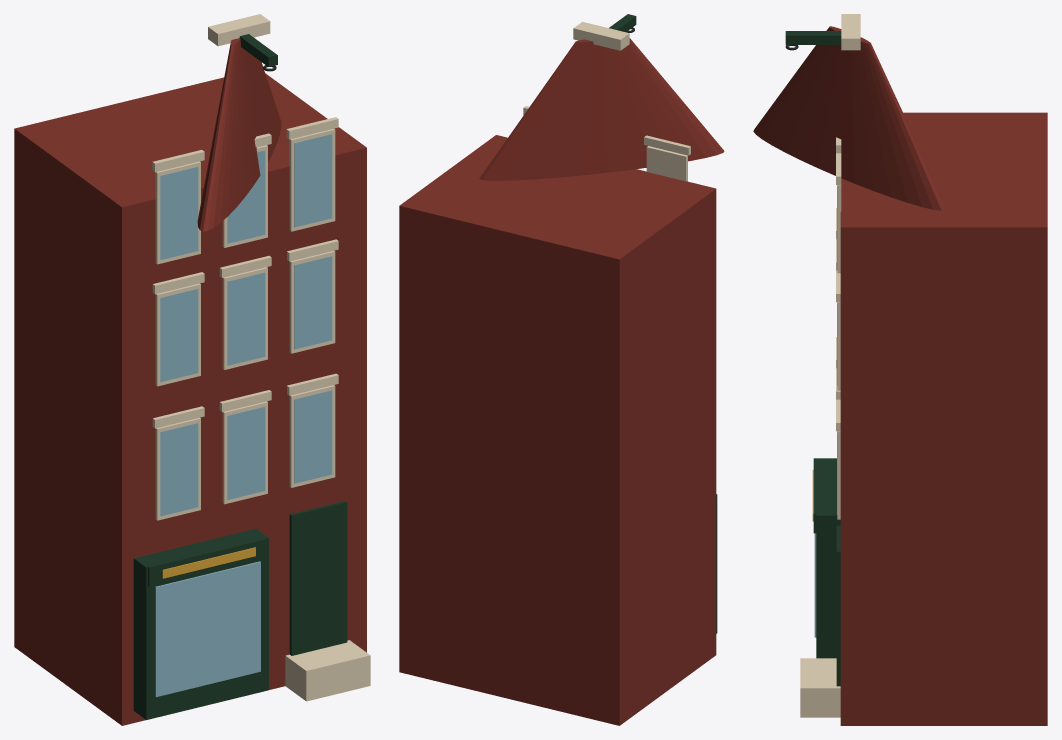
File: canal-house-narrow-a.glb
3 renders of one model, left to right at view 1: azimuth 30°, elevation 25°; view 2: azimuth 150°, elevation 25°; view 3: azimuth 270°, elevation 25°, orthographic. The views are drawn at different scales.
Visible parts, largest first — view 1: Cube, Cube.004, Cone, Cube.008, Cube.003, Cube.007, Cube.017, Cube.020, Cube.023, Cube.011, Cube.014, Cube.026 (+24 smaller); view 2: Cube, Cone, Cube.028, Cube.001; view 3: Cube, Cone, Cube.003, Cube.007, Cube.008, Cube.002, Cube.001.
Boxes of the visible parts, x1,y1,x2,y2 form: Cube: (14, 73, 366, 725); Cube.004: (155, 561, 260, 697); Cone: (197, 38, 281, 231); Cube.008: (289, 501, 347, 655); Cube.003: (133, 528, 268, 719); Cube.007: (285, 640, 370, 701); Cube.017: (294, 390, 332, 483); Cube.020: (160, 289, 198, 382); Cube.023: (227, 272, 265, 365); Cube.011: (160, 423, 198, 516); Cube.014: (227, 406, 265, 499); Cube.026: (294, 256, 332, 349); Cube: (399, 135, 716, 725); Cone: (479, 38, 724, 180); Cube.028: (646, 146, 687, 181); Cube.001: (573, 21, 629, 50); Cube: (840, 112, 1047, 725); Cone: (753, 26, 947, 210); Cube.003: (816, 458, 840, 658); Cube.007: (800, 658, 840, 717); Cube.008: (836, 525, 840, 686); Cube.002: (785, 31, 841, 44); Cube.001: (841, 14, 860, 50).
Size of the model in its own units: 4.2 by 10.95 by 4.55.
